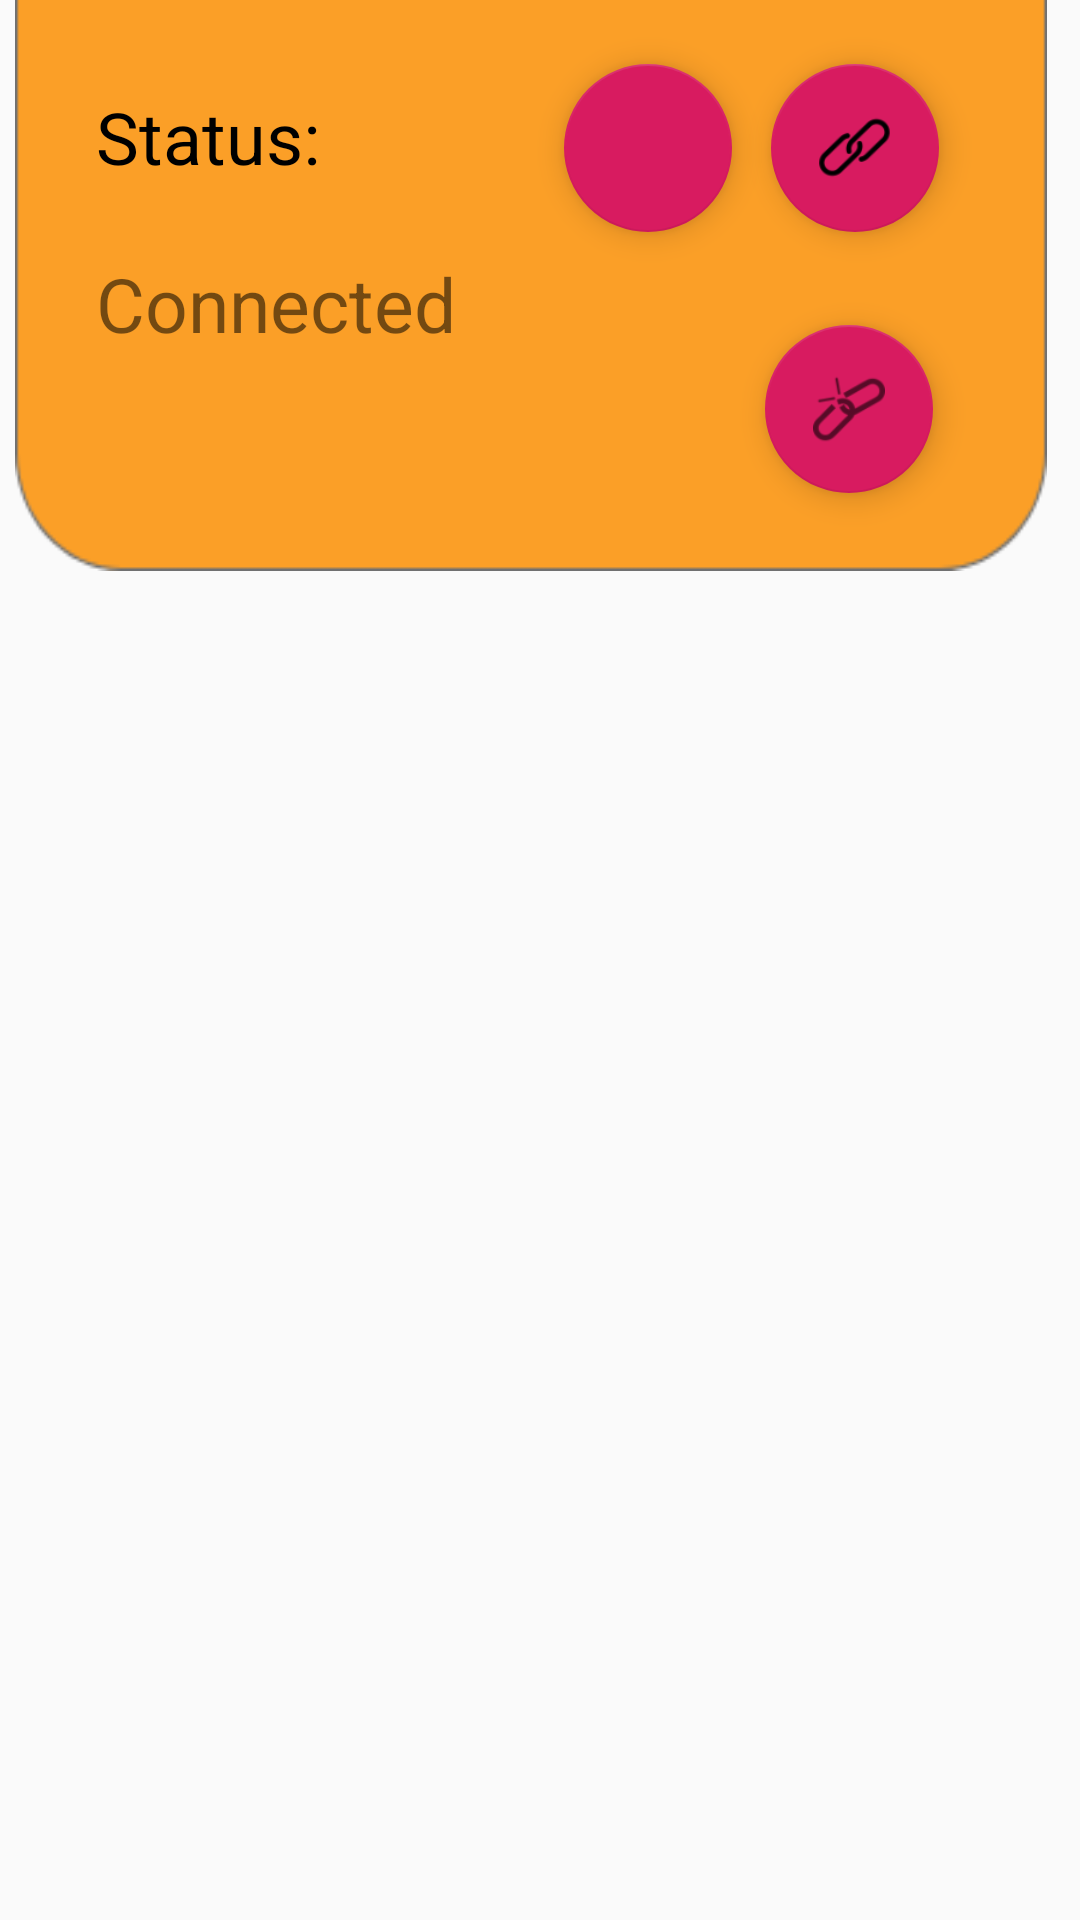

Named icons in this screenshot (1080px×1920px) and their centers, (x=x, y=y):
disconnected chains: (x=849, y=409)
link: (x=855, y=148)
